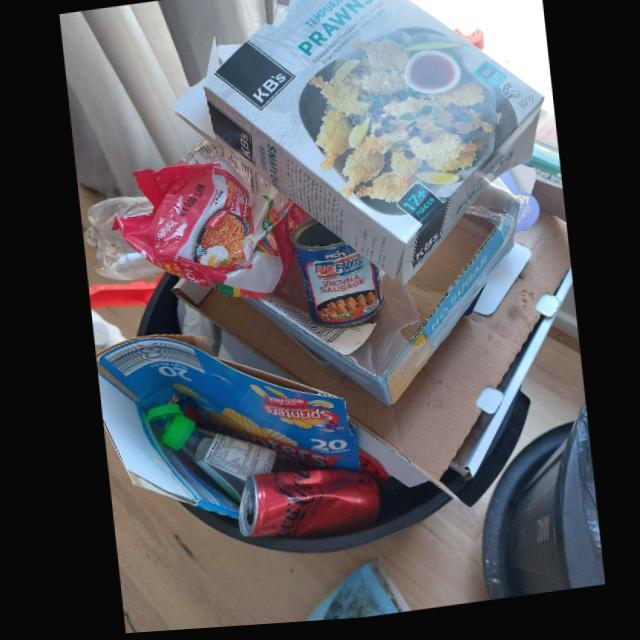metal: (288, 223, 381, 332), (234, 473, 376, 542)
paper: (171, 220, 570, 494), (170, 0, 545, 290), (240, 193, 519, 410), (93, 338, 356, 523)
plastic: (110, 142, 311, 302), (142, 405, 272, 507)
